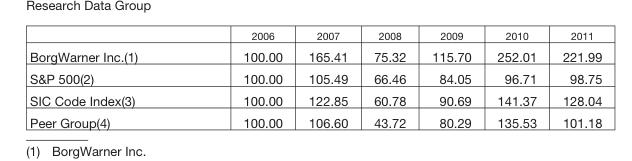table: (29, 28, 601, 130)
table column: (29, 28, 189, 130), (189, 28, 294, 130), (294, 28, 360, 130), (483, 28, 549, 130), (418, 28, 483, 130), (360, 28, 418, 130), (549, 28, 601, 130)
table column header: (29, 28, 601, 44)
table row: (29, 44, 601, 67), (29, 67, 601, 89), (29, 89, 601, 111), (29, 111, 601, 130), (29, 28, 601, 44)
